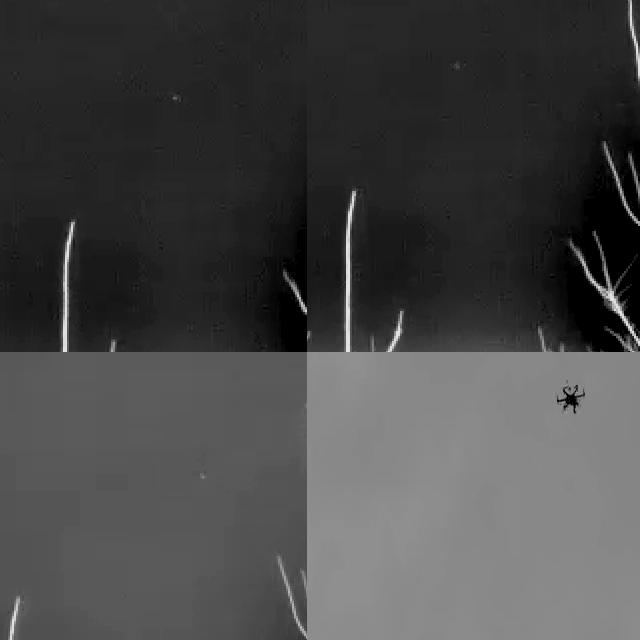0: (185, 461, 211, 496), (163, 87, 181, 115), (444, 59, 464, 81)
drone: (554, 377, 588, 417)
